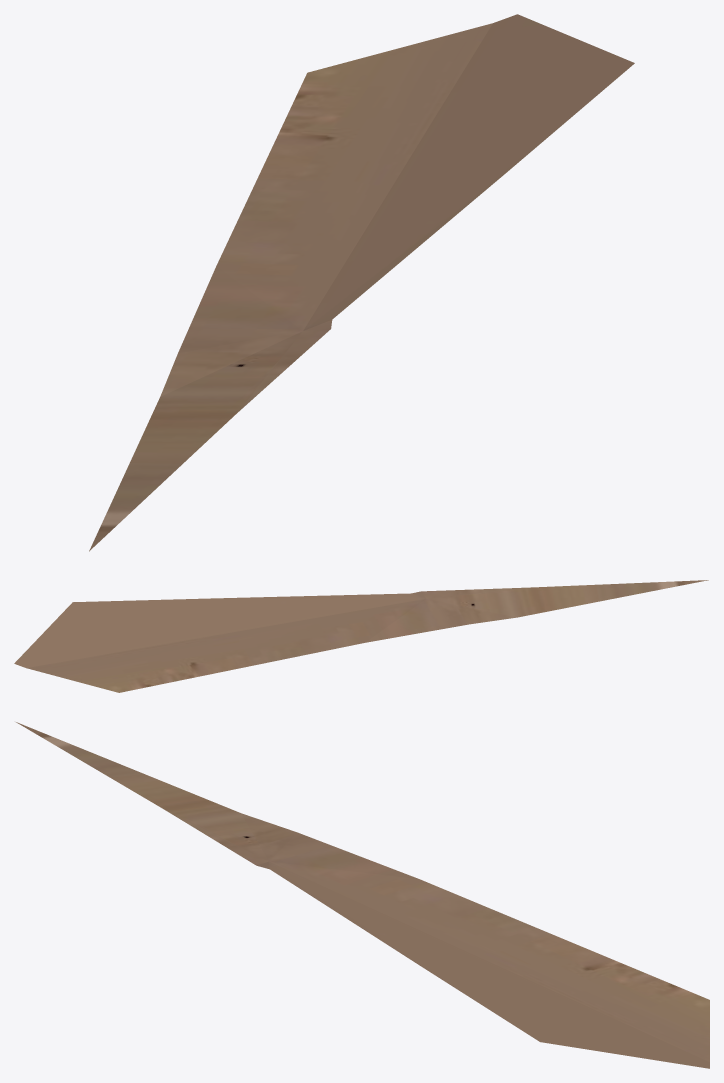
The picture shows the model from 3 angles, top to bottom: view 1: azimuth 30°, elevation 25°; view 2: azimuth 150°, elevation 25°; view 3: azimuth 270°, elevation 25°; orthographic projection. The views are drawn at different scales.
Bounding box in the file's own units: 1.22 × 0.0566 × 1.12.
1 material, 1 textured.
